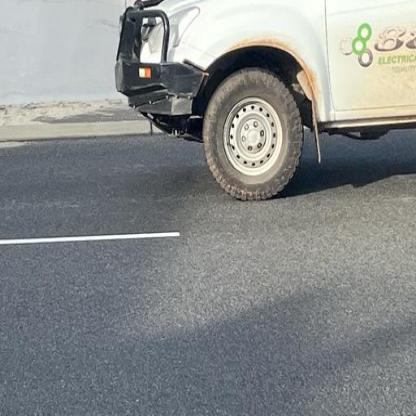Tire: (202, 68, 304, 202)
